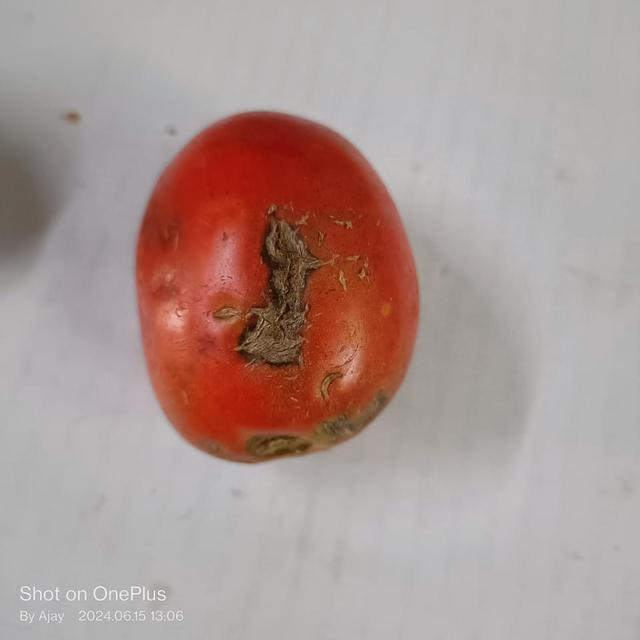Bacterial Spot Fruit: (159, 136, 211, 249)
